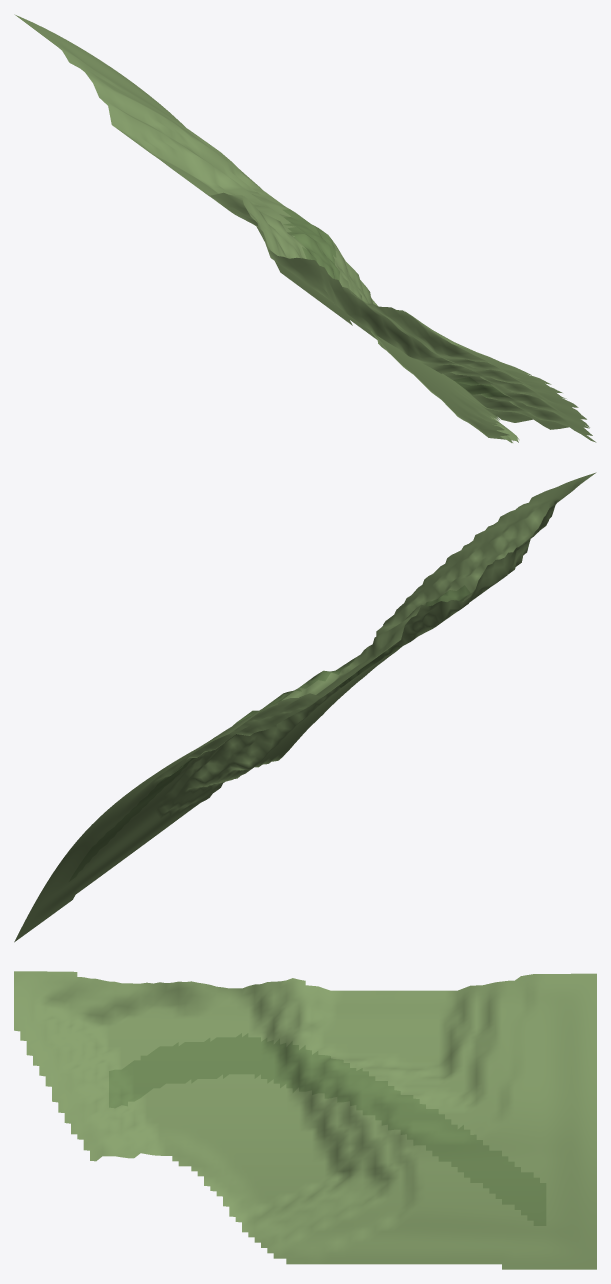
Rendered from oriel-garden-sector.glb.
3 views of the same model, one above another, from view 1: azimuth 30°, elevation 25°; view 2: azimuth 150°, elevation 25°; view 3: azimuth 270°, elevation 25° (orthographic). The views are drawn at different scales.
Visible parts, largest first — view 1: gardenSector__sage_cultivated_garden, gardenSector__deep_orchard_soil; view 2: gardenSector__sage_cultivated_garden, gardenSector__deep_orchard_soil; view 3: gardenSector__sage_cultivated_garden, gardenSector__deep_orchard_soil.
Part boxes in pixels (left/top/right/bottom): gardenSector__sage_cultivated_garden: left=14, top=14, right=596, bottom=442; gardenSector__deep_orchard_soil: left=282, top=209, right=509, bottom=397; gardenSector__sage_cultivated_garden: left=14, top=472, right=596, bottom=942; gardenSector__deep_orchard_soil: left=69, top=585, right=470, bottom=881; gardenSector__sage_cultivated_garden: left=14, top=971, right=596, bottom=1269; gardenSector__deep_orchard_soil: left=109, top=1033, right=546, bottom=1225.
Size of the model in its own units: 423 by 459 by 1150.
